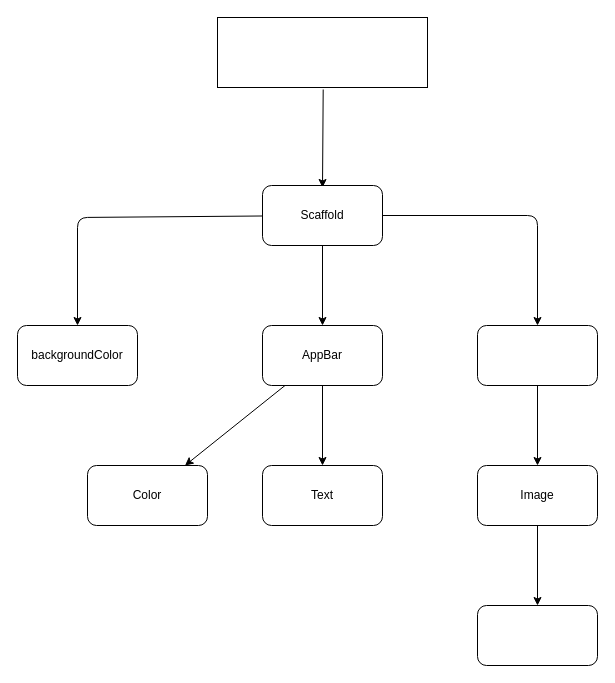
Image size: 615x683. Some labels were removed from this diagram. Each missing label, with the centre of its shape:
"Center" belongs at (x=537, y=355).
"Material app" belongs at (x=322, y=52).
"NetWorkImage" belongs at (x=537, y=635).
